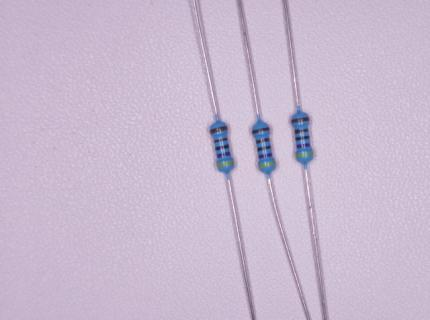Black band: (215, 144, 229, 151), (295, 135, 309, 141), (258, 146, 270, 152)
Brown band: (210, 126, 227, 134), (253, 127, 269, 134), (291, 117, 309, 123), (214, 137, 227, 143), (256, 138, 269, 144), (295, 129, 308, 134)
Violet band: (217, 152, 230, 158), (259, 153, 272, 159), (297, 143, 310, 148)
Yellow band: (216, 161, 233, 168), (259, 162, 274, 169), (296, 152, 313, 157)
